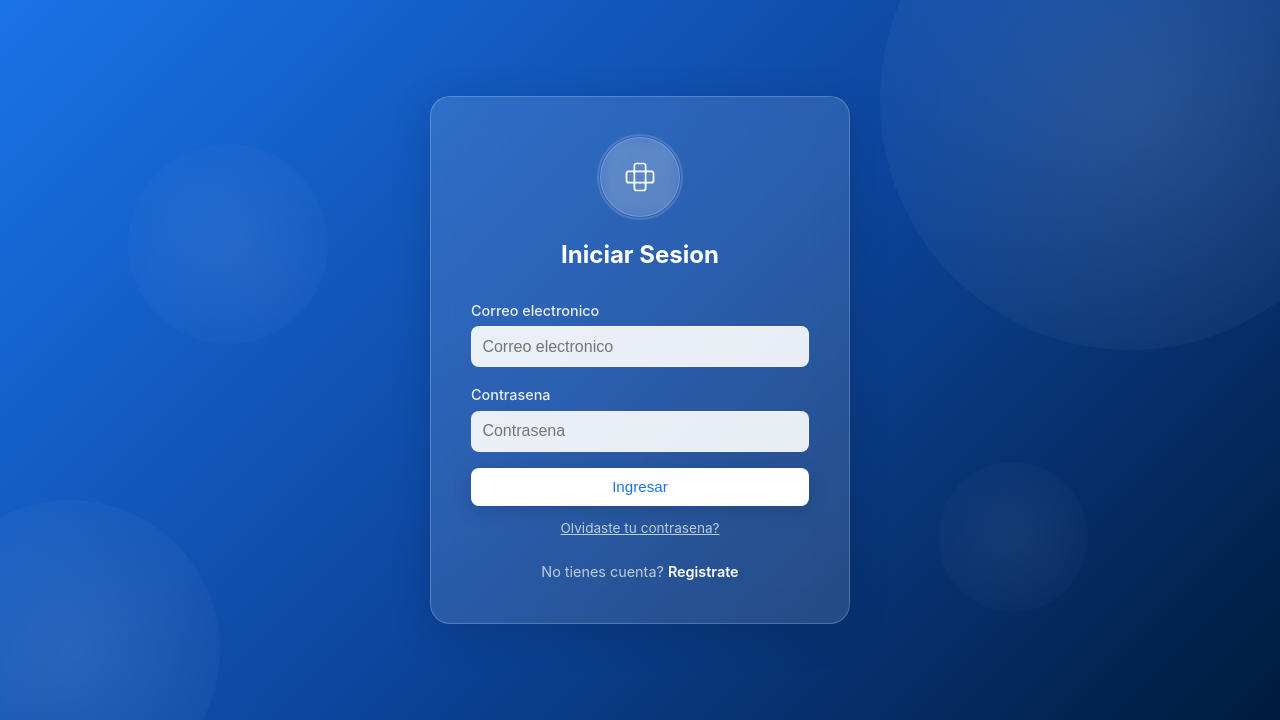
Test: Login Page › shows email format error for invalid email
Type "invalido" into the field labelled "Correo electronico" at (640, 347), box [471, 326, 809, 367]
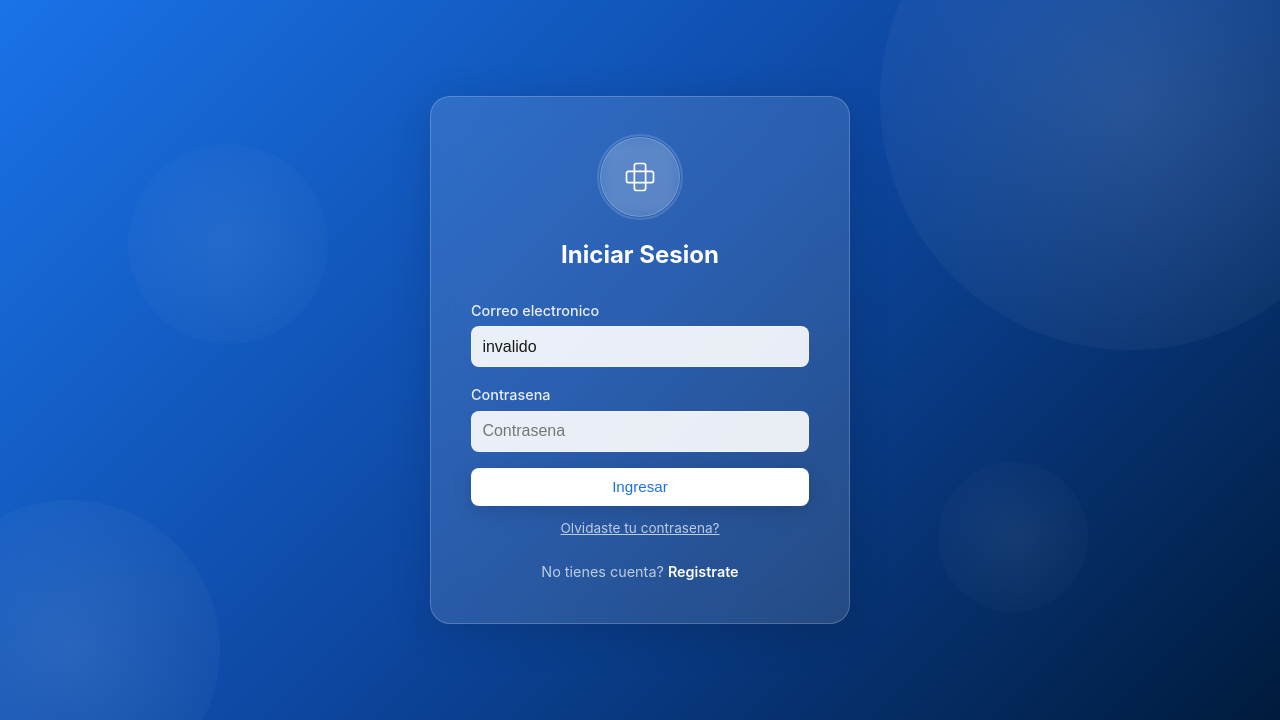
Leave the field labelled "Correo electronico", box [471, 326, 809, 367]
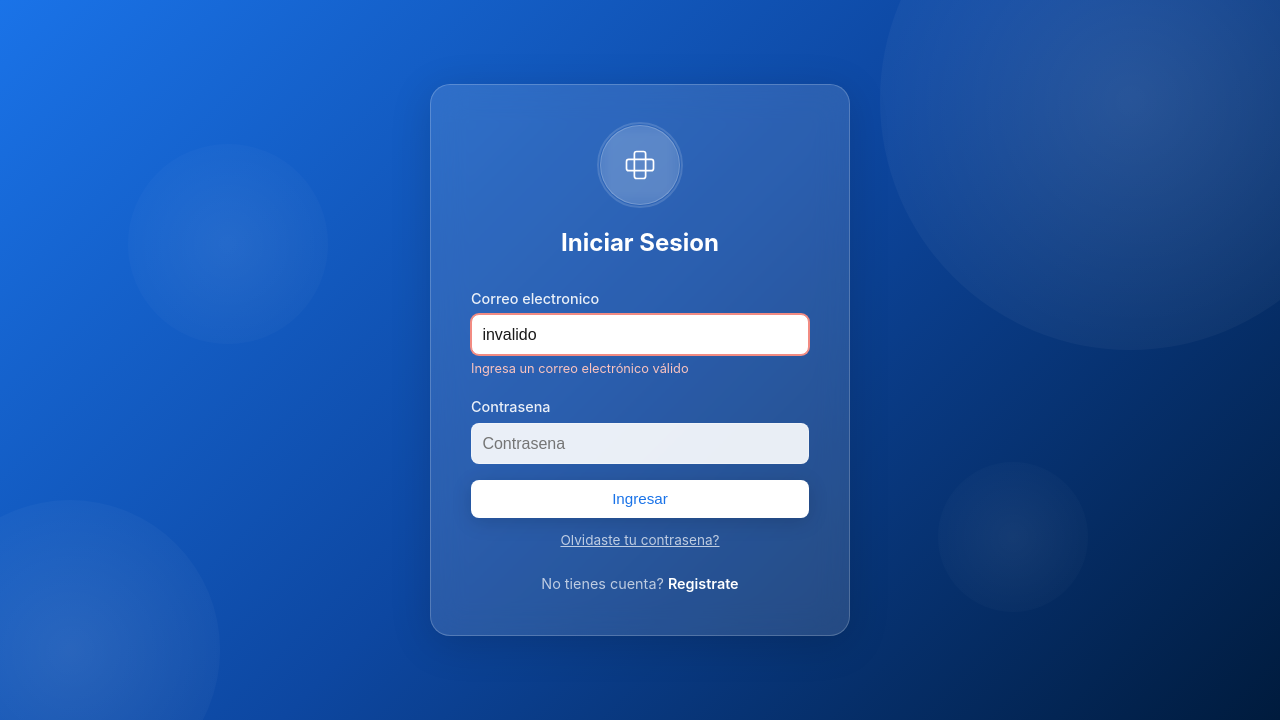
Result: the text "Ingresa un correo electrónico válido" is shown at [471, 361, 689, 376]
